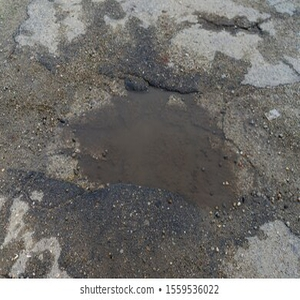pothole: (57, 73, 258, 208)
